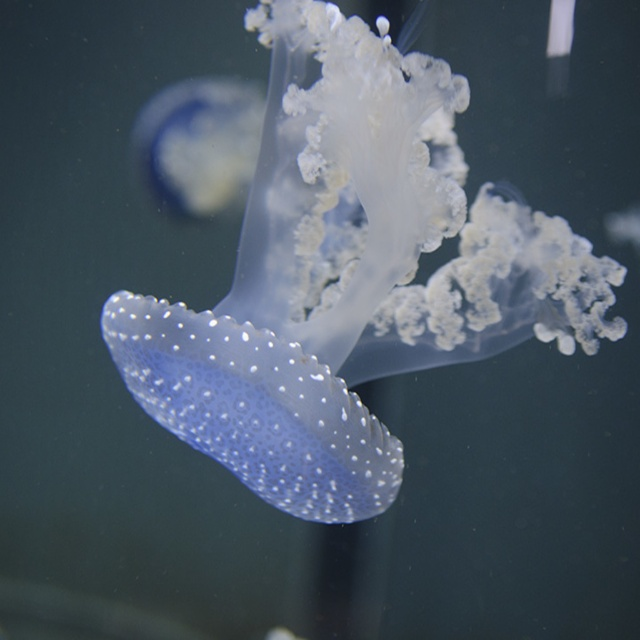Jellyfish: (97, 0, 628, 523)
